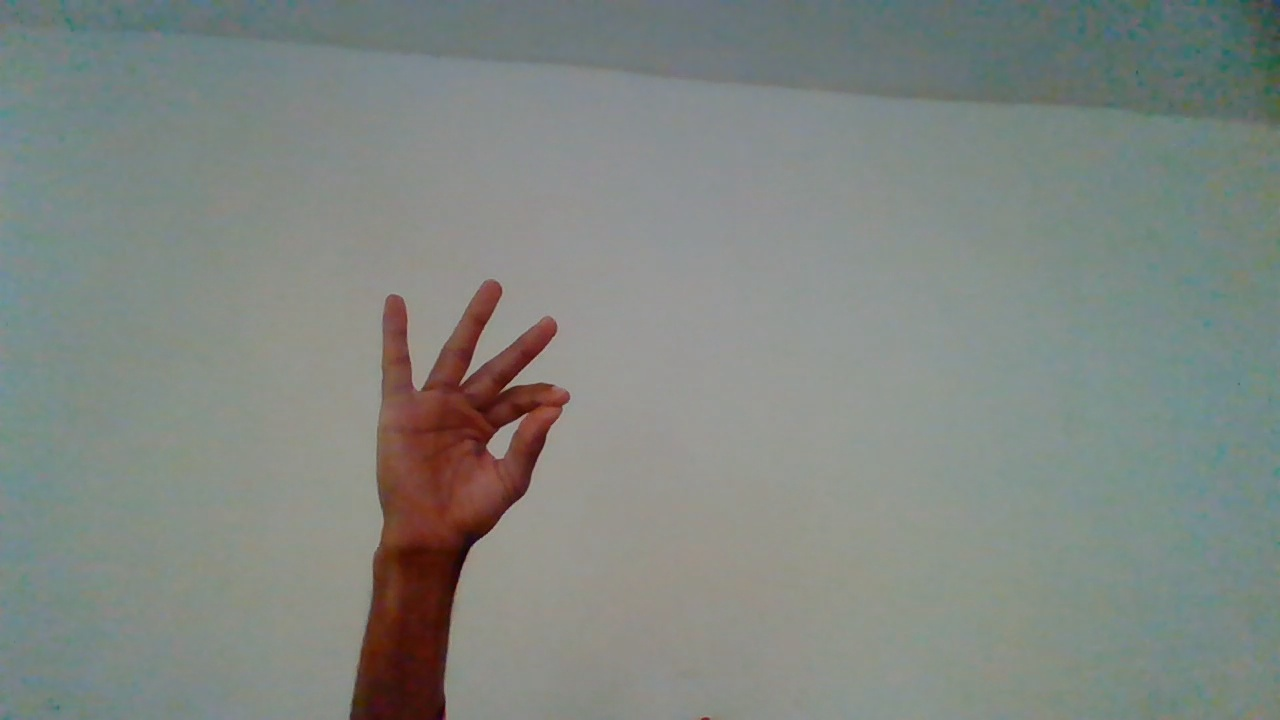le: (376, 275, 576, 605)
